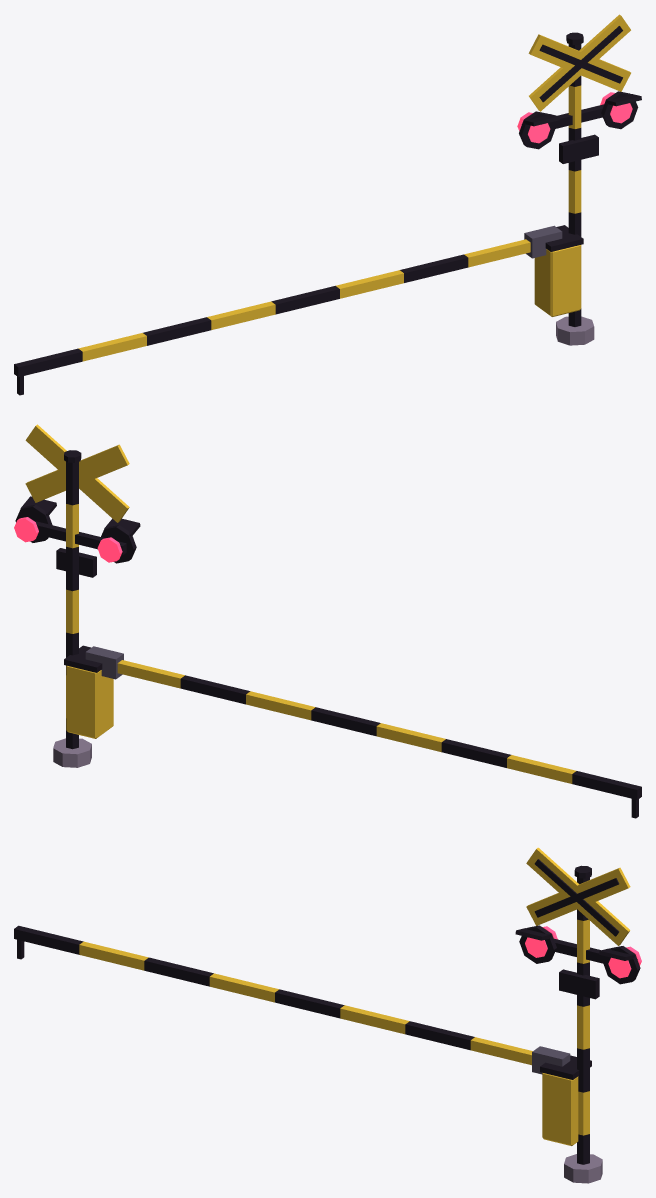
File: crossing_barrier.glb
3 views of the same model, one above another, from view 1: azimuth 30°, elevation 25°; view 2: azimuth 150°, elevation 25°; view 3: azimuth 330°, elevation 25° (orthographic).
Visible parts, largest first — view 1: crossing_barrier, boom; view 2: crossing_barrier, boom; view 3: crossing_barrier, boom.
Boxes of the visible parts, x1,y1,x2,y2 form: crossing_barrier: (517, 14, 641, 345); boom: (14, 225, 562, 395); crossing_barrier: (14, 424, 140, 767); boom: (85, 646, 641, 818); crossing_barrier: (515, 847, 641, 1183); boom: (14, 925, 570, 1074).
Size of the model in its own units: 7.2 by 3.52 by 0.4618.
